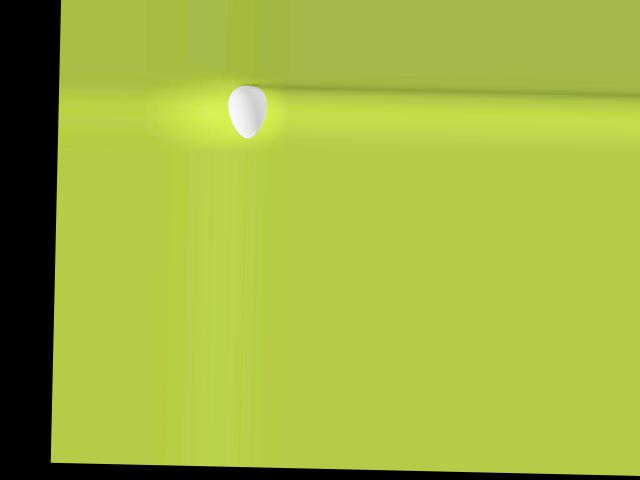egg: (228, 84, 268, 139)
